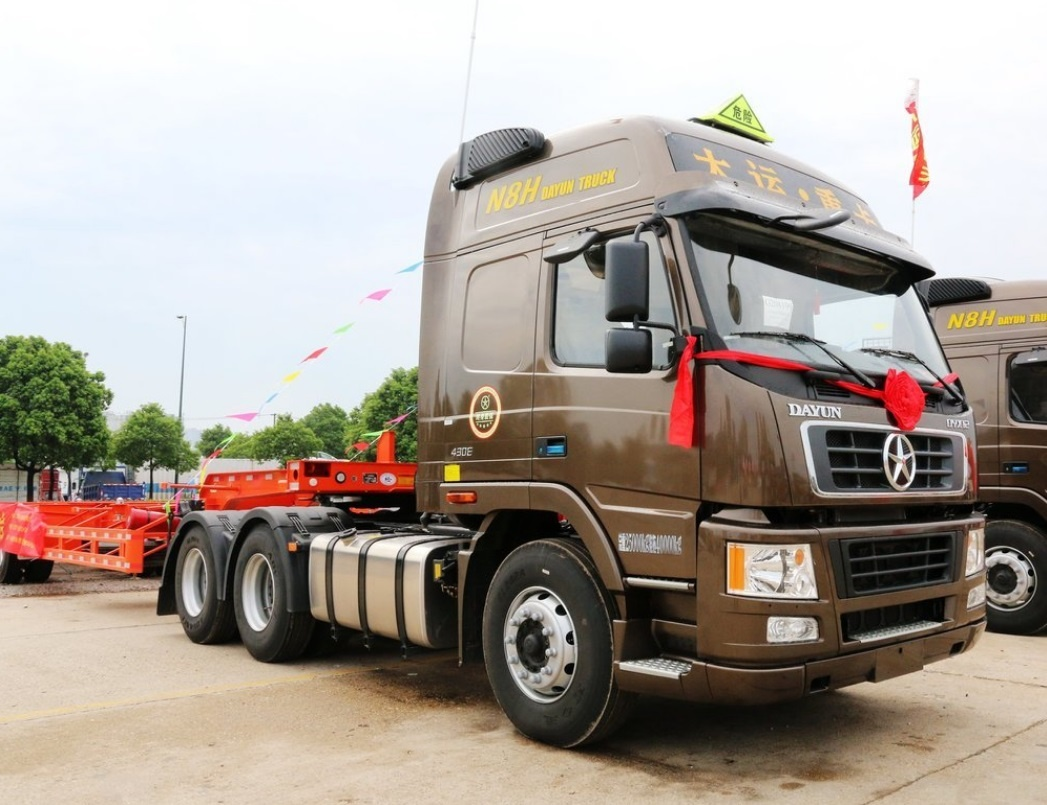heavy truck: (200, 103, 986, 746)
